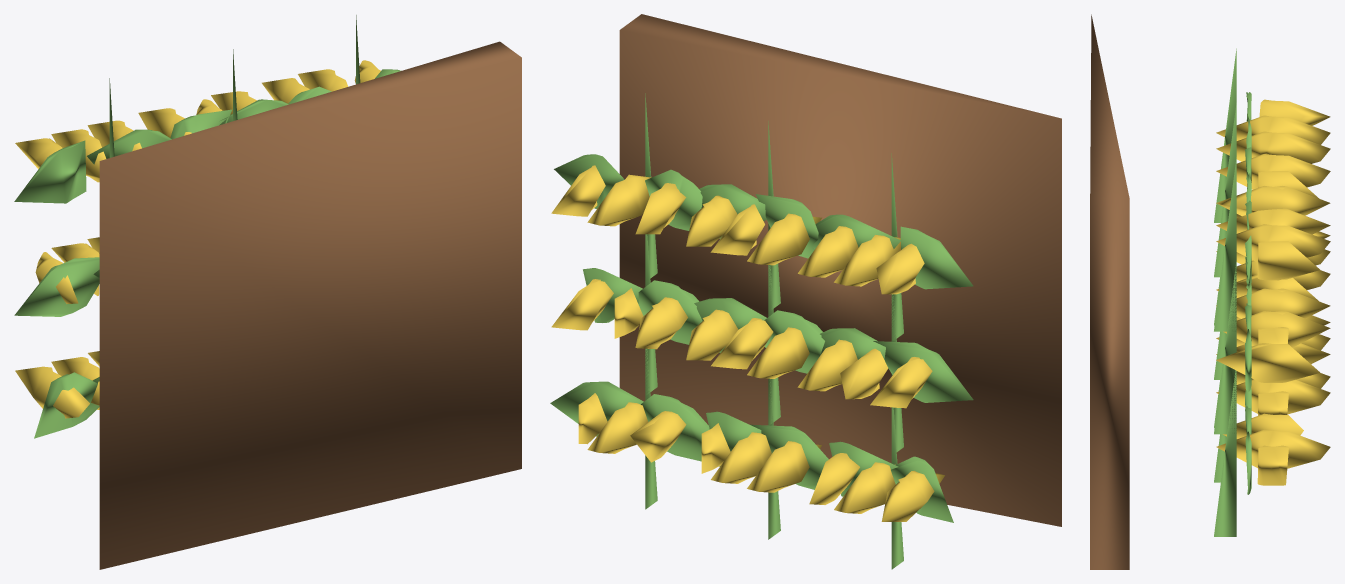
Rendered from corn_growing.glb.
The picture shows the model from 3 angles, left to right: view 1: azimuth 30°, elevation 25°; view 2: azimuth 150°, elevation 25°; view 3: azimuth 270°, elevation 25°; orthographic projection. The views are drawn at different scales.
Parts seen in each view (by area): view 1: Soil, Leaf.002, Leaf.004, Leaf, Cob, Cob.007, Leaf.005, Leaf.010, Cob.001, Cob.015, Cob.003, Cob.025 (+4 smaller); view 2: Soil, Leaf.002, Leaf.004, Cob.015, Cob.025, Leaf.012, Cob.009, Cob.012, Cob.001, Cob.010, Cob.008, Cob (+41 smaller); view 3: Soil, Cob.023, Stem.006, Cob.019, Cob.008, Stem.008, Cob.017, Cob.025, Cob.015, Cob.021, Cob.026, Cob.014 (+21 smaller).
Boxes of the visible parts, x1,y1,x2,y2 form: Soil: (99,41,521,569); Leaf.002: (14,257,99,316); Leaf.004: (14,140,86,203); Leaf: (34,372,99,438); Cob: (15,366,89,418); Cob.007: (51,129,106,182); Leaf.005: (87,129,171,164); Leaf.010: (170,109,232,139); Cob.001: (51,357,99,409); Cob.015: (138,108,191,137); Cob.003: (35,252,78,303); Cob.025: (298,69,348,91); Soil: (619,14,1061,526); Leaf.002: (873,341,973,402); Leaf.004: (900,226,973,289); Cob.015: (747,213,821,265); Cob.025: (587,174,651,226); Leaf.012: (641,394,709,461); Cob.009: (747,441,821,492); Cob.012: (747,327,809,378); Cob.001: (834,462,895,513); Cob.010: (711,432,771,483); Cob.008: (798,226,858,277); Cob: (881,470,944,521); Soil: (1090,14,1129,569); Cob.023: (1216,343,1320,382); Stem.006: (1214,370,1236,536); Cob.019: (1216,429,1330,468); Cob.008: (1216,131,1330,163); Stem.008: (1214,157,1236,331); Cob.017: (1216,186,1330,216); Cob.025: (1216,224,1330,262); Cob.015: (1216,154,1330,189); Cob.021: (1223,311,1330,347); Cob.026: (1257,241,1319,280); Cob.014: (1216,288,1330,318).
Size of the model in its own units: 1.17 by 1.11 by 0.637.
